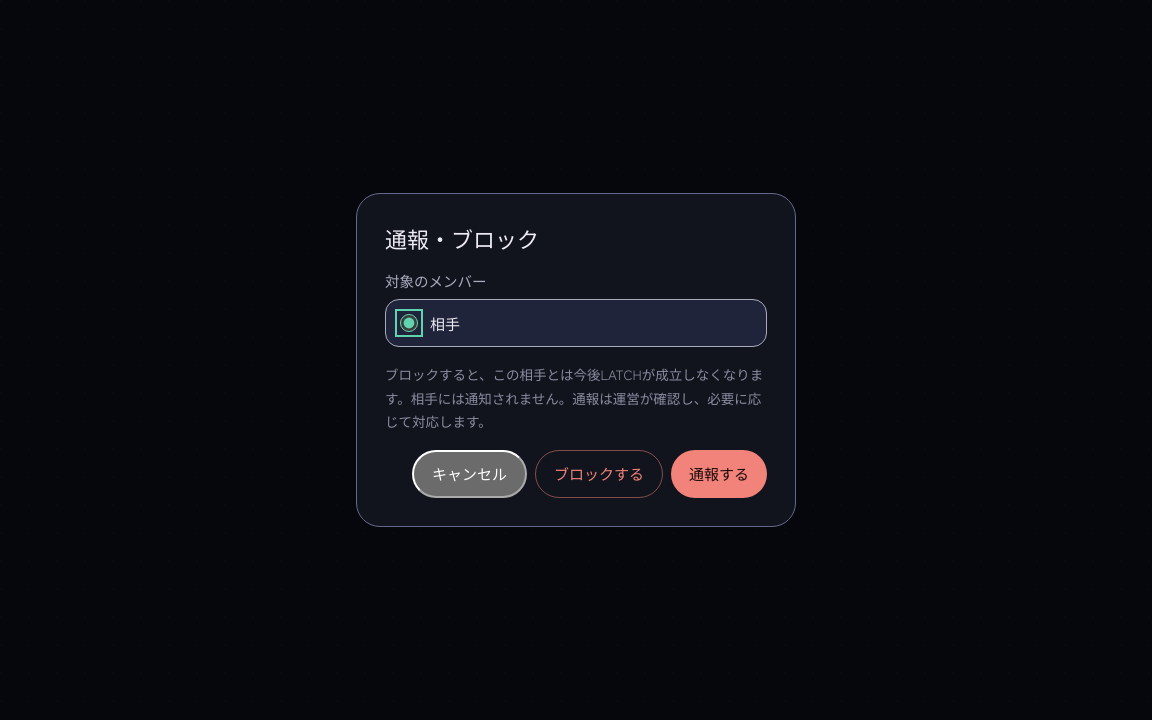
Test: 通報・ブロック統合dialog(D-09・プロトタイプ05) › 通報は理由ステップ(D-09)を挿みreportee_id明示でPOST /v1/reports
Click the button "通報する" at [719, 474], box [671,450,767,498]
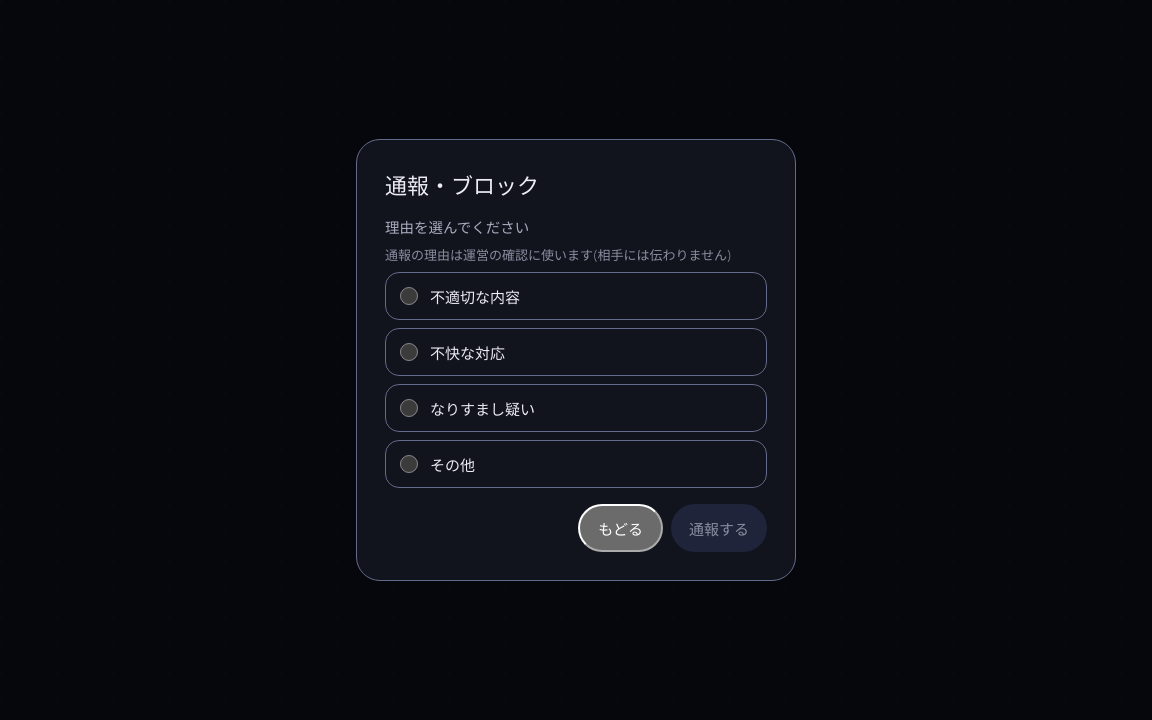
expect the number of radio buttons named "safety-reason" is 4: met
expect the button "通報する" is disabled: met, box [671,504,767,552]
Click the radio button named "safety-reason" at [409, 464], box [400,455,418,473]
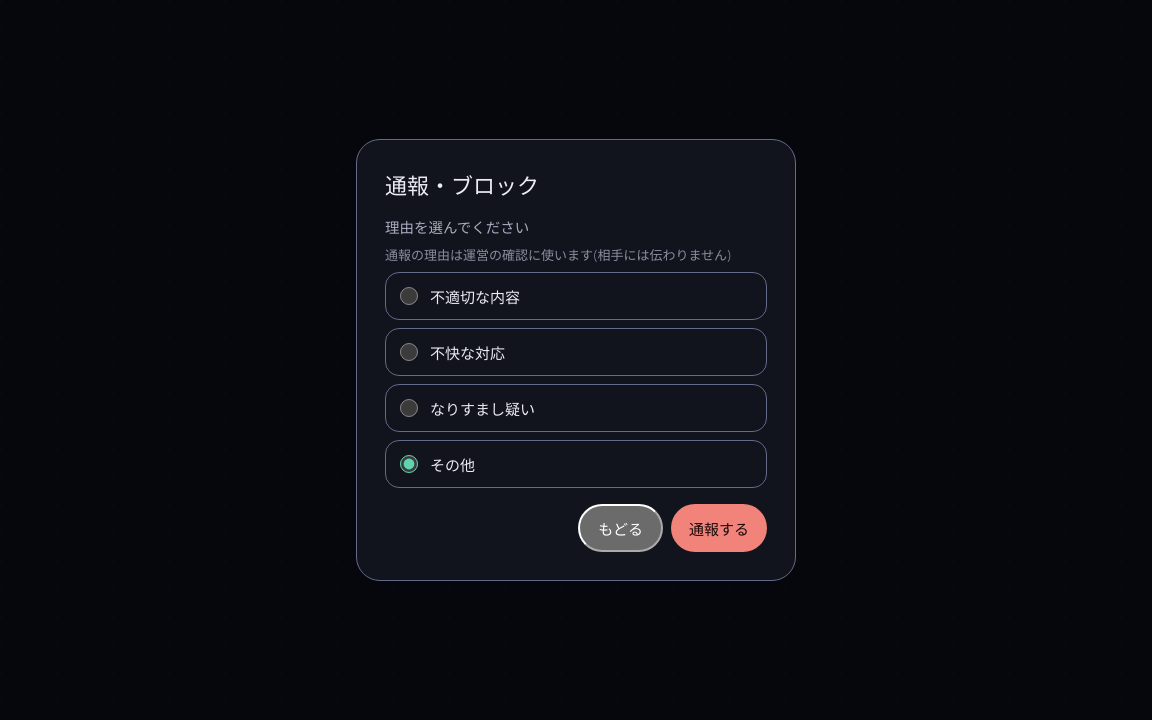
expect the button "通報する" is enabled: met
Click the button "通報する" at [719, 528], box [671,504,767,552]
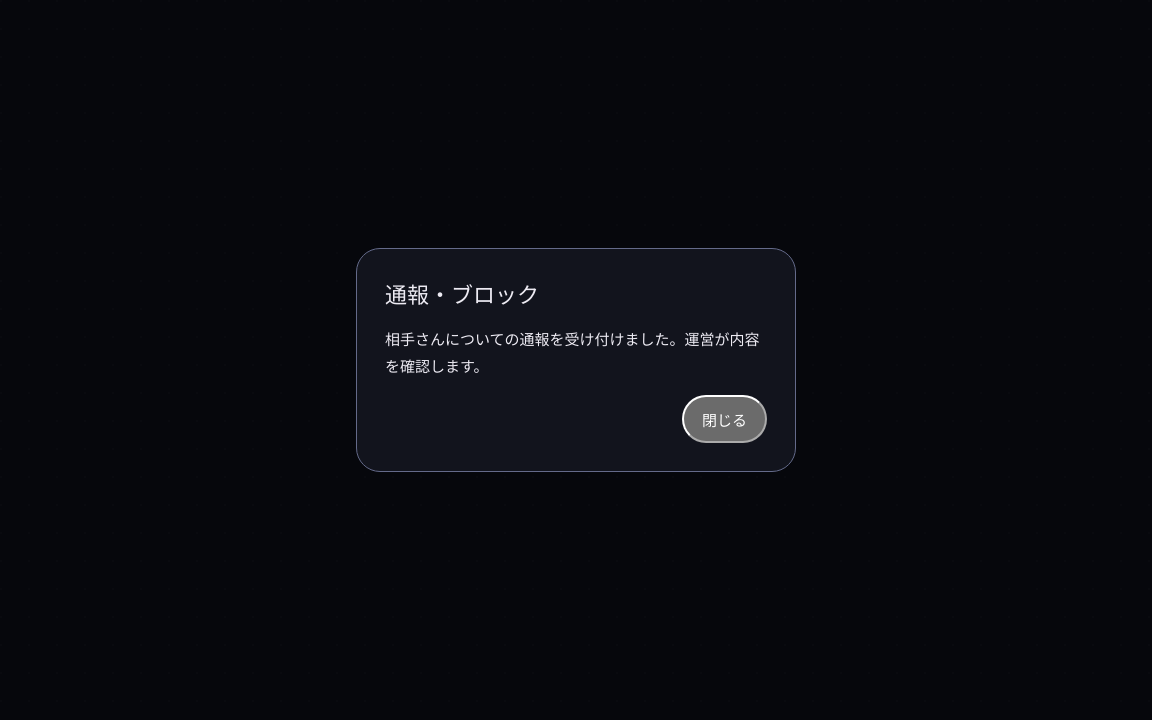
expect the message "相手さんについての通報を受け付けました。運営が内容を確認します。" is shown: met, box [385,325,767,379]
